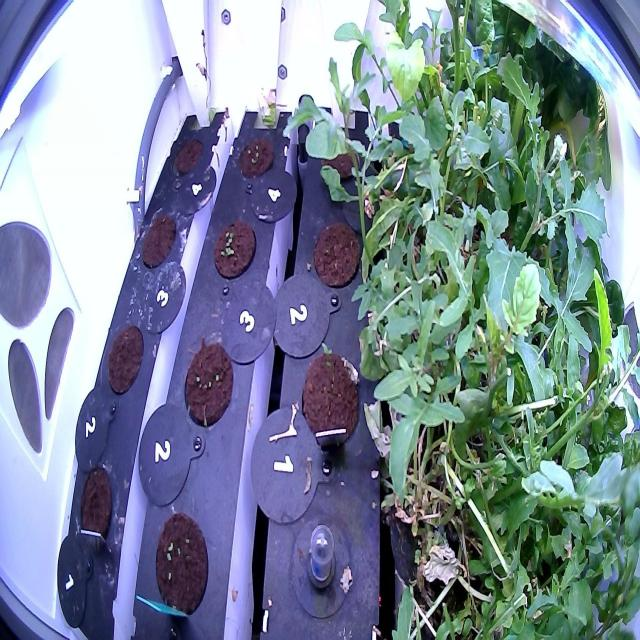germination: (296, 336, 363, 458), (147, 504, 211, 622), (181, 333, 235, 438), (212, 217, 260, 286), (236, 130, 278, 184)
pod: (309, 215, 362, 293), (75, 462, 115, 551), (104, 319, 146, 402), (140, 208, 178, 274), (171, 131, 206, 180)
